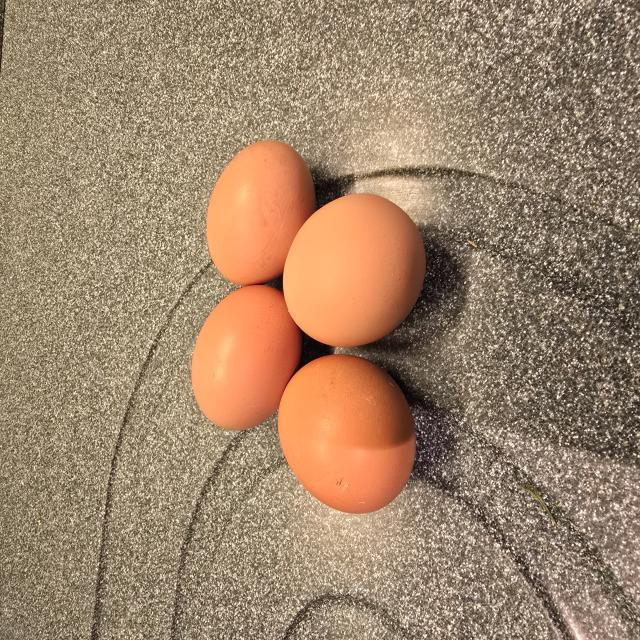Egg: (278, 355, 416, 513), (283, 194, 425, 347), (191, 285, 302, 429), (207, 141, 315, 285)
